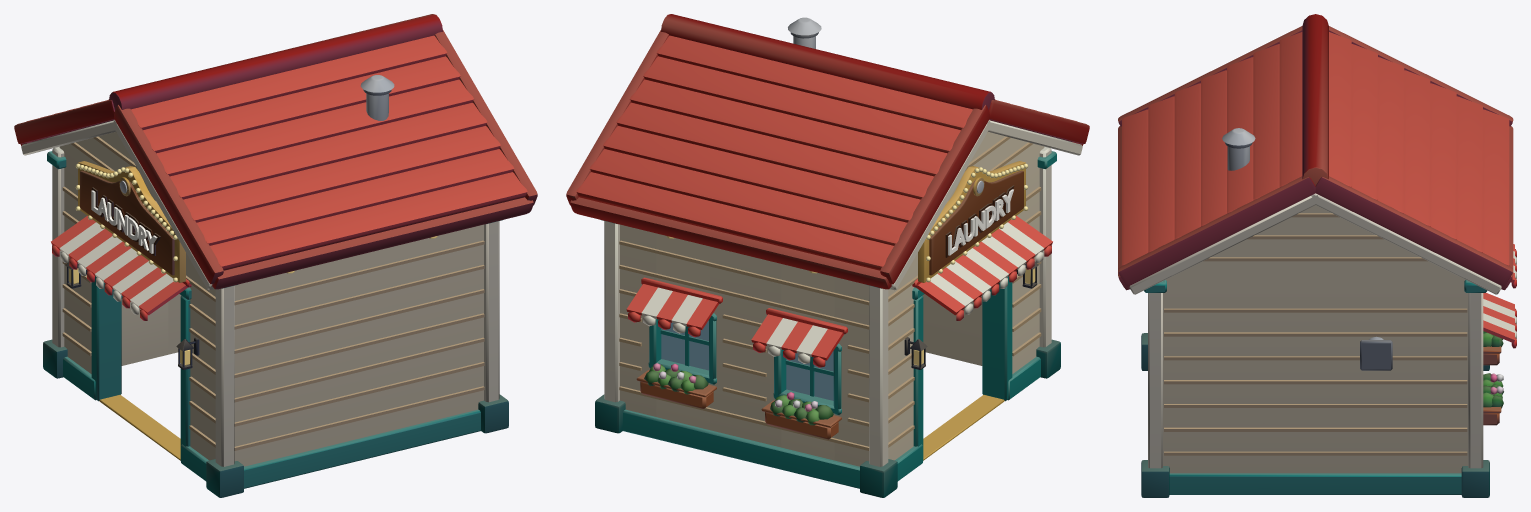
The model's file is LinenShedV2.fbx.
3 views of the same model, side by side, from view 1: azimuth 30°, elevation 25°; view 2: azimuth 150°, elevation 25°; view 3: azimuth 270°, elevation 25° (orthographic).
Parts seen in each view (by area): view 1: SM_Bld_LinenShedV2_Roof, SM_Bld_LinenShedV2_Walls, SM_Bld_LinenShedV2_Trim, SM_Bld_LinenShedV2_Awning, SM_Bld_LinenShedV2_Sign, SM_Bld_LinenShedV2_Glow; view 2: SM_Bld_LinenShedV2_Roof, SM_Bld_LinenShedV2_Walls, SM_Bld_LinenShedV2_Trim, SM_Bld_LinenShedV2_Awning, SM_Bld_LinenShedV2_Sign, SM_Bld_LinenShedV2_Flowers, SM_Bld_LinenShedV2_Glass, SM_Bld_LinenShedV2_Glow; view 3: SM_Bld_LinenShedV2_Roof, SM_Bld_LinenShedV2_Walls, SM_Bld_LinenShedV2_Trim, SM_Bld_LinenShedV2_Flowers, SM_Bld_LinenShedV2_Awning.
Part boxes in pixels (left/top/right/bottom): SM_Bld_LinenShedV2_Roof: left=14, top=14, right=537, bottom=289; SM_Bld_LinenShedV2_Walls: left=59, top=132, right=484, bottom=466; SM_Bld_LinenShedV2_Trim: left=21, top=120, right=508, bottom=497; SM_Bld_LinenShedV2_Awning: left=51, top=216, right=191, bottom=320; SM_Bld_LinenShedV2_Sign: left=78, top=161, right=185, bottom=282; SM_Bld_LinenShedV2_Glow: left=68, top=163, right=437, bottom=365; SM_Bld_LinenShedV2_Roof: left=566, top=14, right=1089, bottom=289; SM_Bld_LinenShedV2_Walls: left=619, top=132, right=1044, bottom=466; SM_Bld_LinenShedV2_Trim: left=595, top=120, right=1082, bottom=497; SM_Bld_LinenShedV2_Awning: left=626, top=216, right=1052, bottom=367; SM_Bld_LinenShedV2_Sign: left=918, top=161, right=1025, bottom=282; SM_Bld_LinenShedV2_Flowers: left=636, top=363, right=841, bottom=439; SM_Bld_LinenShedV2_Glass: left=661, top=320, right=833, bottom=400; SM_Bld_LinenShedV2_Glow: left=666, top=163, right=1035, bottom=365; SM_Bld_LinenShedV2_Roof: left=1118, top=14, right=1513, bottom=290; SM_Bld_LinenShedV2_Walls: left=1163, top=205, right=1468, bottom=473; SM_Bld_LinenShedV2_Trim: left=1129, top=193, right=1501, bottom=497; SM_Bld_LinenShedV2_Flowers: left=1483, top=331, right=1503, bottom=425; SM_Bld_LinenShedV2_Awning: left=1483, top=244, right=1516, bottom=348.
Size of the model in its own units: 19.09 by 18.48 by 19.73.
